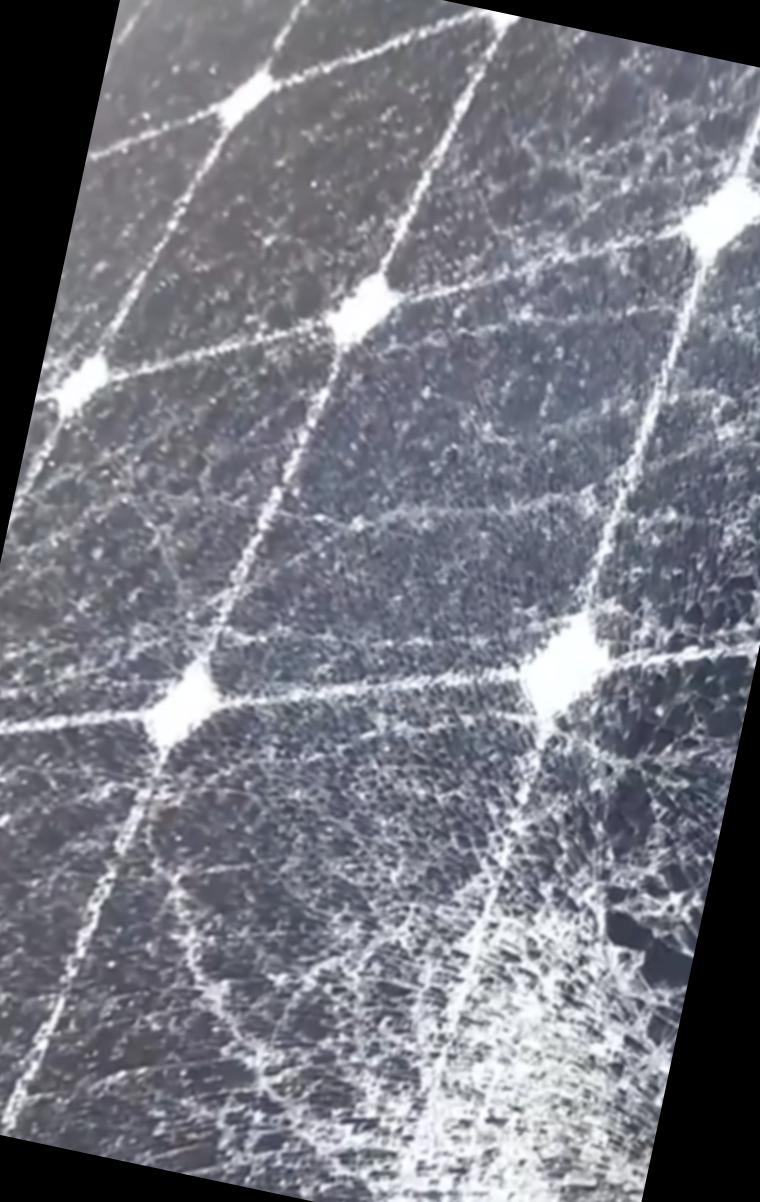Crack: (411, 20, 759, 587), (300, 803, 711, 1201)
